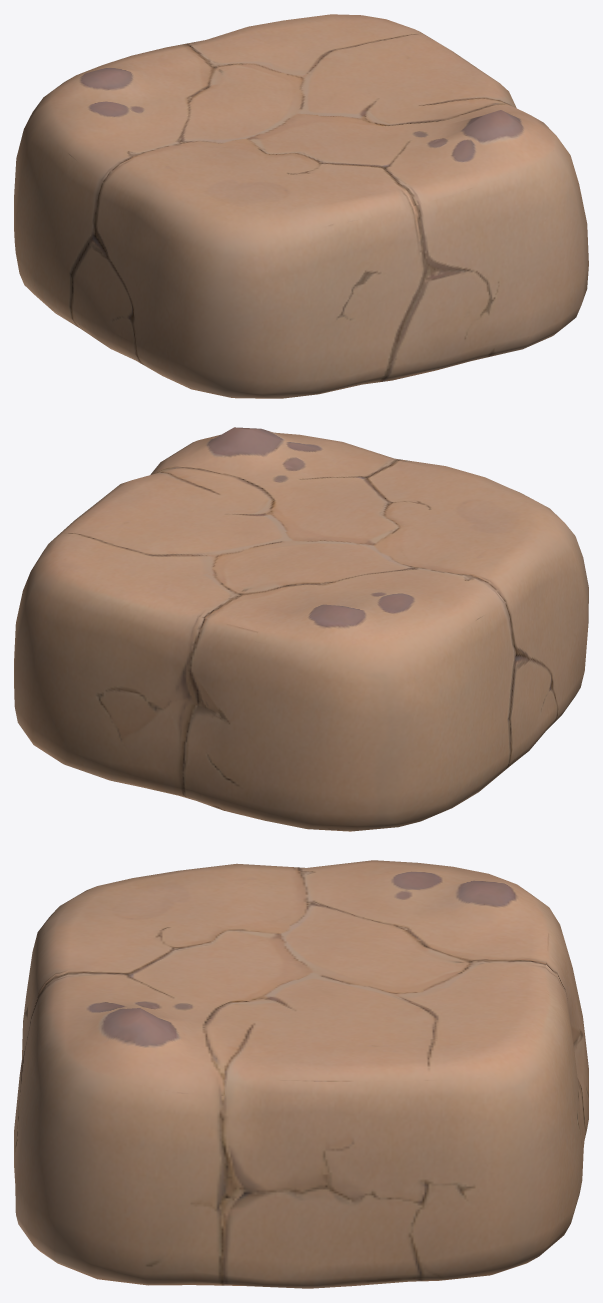
Rendered from Ground_Dry_000.fbx.
3 renders of one model, top to bottom at view 1: azimuth 30°, elevation 25°; view 2: azimuth 150°, elevation 25°; view 3: azimuth 270°, elevation 25°, orthographic. The views are drawn at different scales.
Parts seen in each view (by area): view 1: Ground_Dry_000; view 2: Ground_Dry_000; view 3: Ground_Dry_000.
Part boxes in pixels (box(x1,y1,x2,y2)): Ground_Dry_000: box(14, 14, 588, 398); Ground_Dry_000: box(14, 427, 588, 831); Ground_Dry_000: box(14, 860, 588, 1288).
Bounding box in the file's own units: 99.35 × 44.27 × 97.95.
